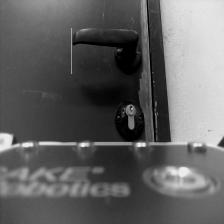Door Handle: (71, 28, 144, 74)
Lock: (115, 99, 145, 141)
